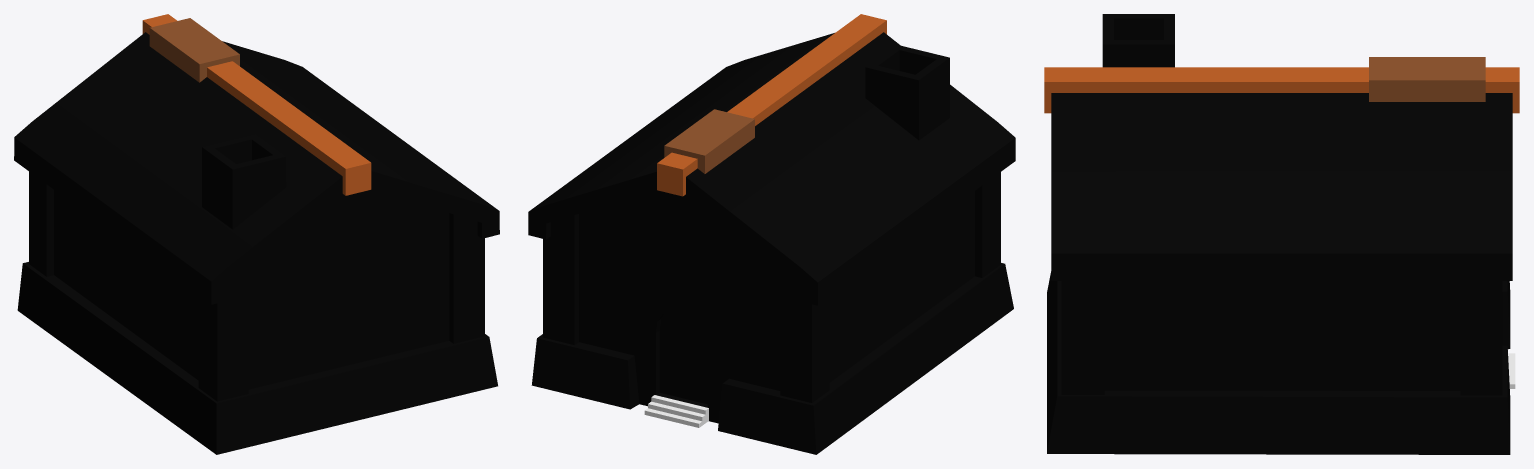
The model's file is domek1.FBX.
The picture shows the model from 3 angles, left to right: view 1: azimuth 30°, elevation 25°; view 2: azimuth 150°, elevation 25°; view 3: azimuth 270°, elevation 25°; orthographic projection. The views are drawn at different scales.
Visible parts, largest first — view 1: Box007; view 2: Box007; view 3: Box007.
Boxes of the visible parts, <box> form: Box007: <box>14,14,499,454</box>; Box007: <box>528,14,1015,454</box>; Box007: <box>1044,14,1519,454</box>.
Size of the model in its own units: 53.03 by 45.81 by 64.68.
